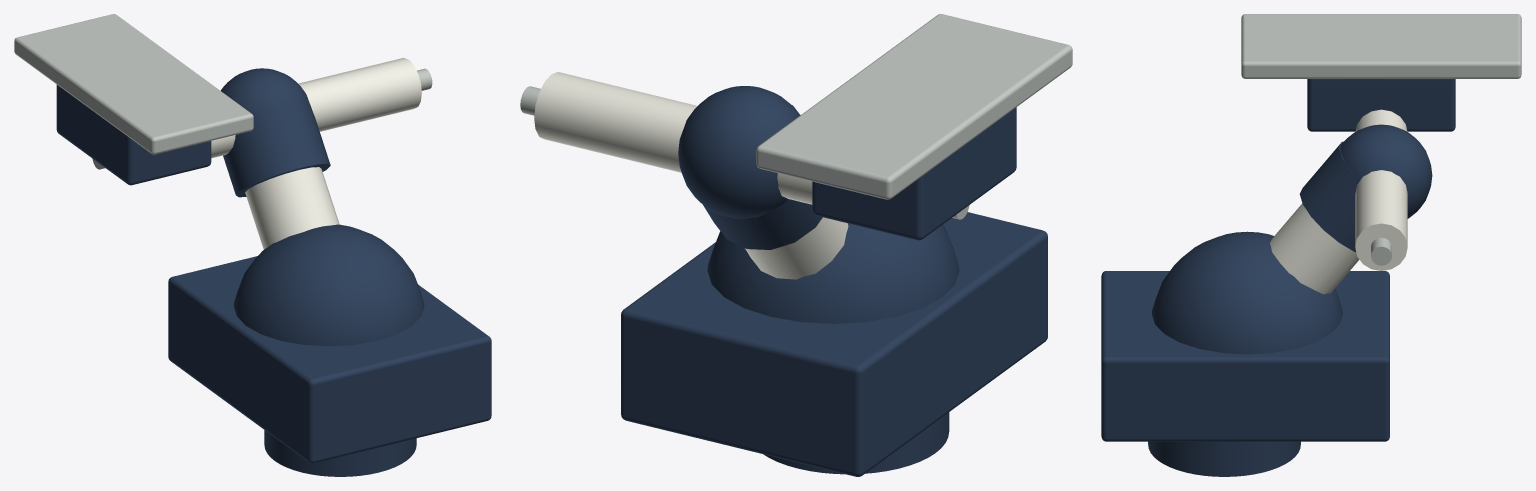
File: planetarium-and-optical-observatory-equatorial-mount-7582a95a__31847.glb
3 renders of one model, left to right at view 1: azimuth 30°, elevation 25°; view 2: azimuth 150°, elevation 25°; view 3: azimuth 270°, elevation 25°, orthographic. The views are drawn at different scales.
Parts seen in each view (by area): view 1: equatorial-mount; view 2: equatorial-mount; view 3: equatorial-mount.
Boxes of the visible parts, x1,y1,x2,y2 form: equatorial-mount: (14,14,491,476); equatorial-mount: (520,14,1072,476); equatorial-mount: (1101,14,1521,476).
Size of the model in its own units: 0.94 by 0.895 by 0.99.
